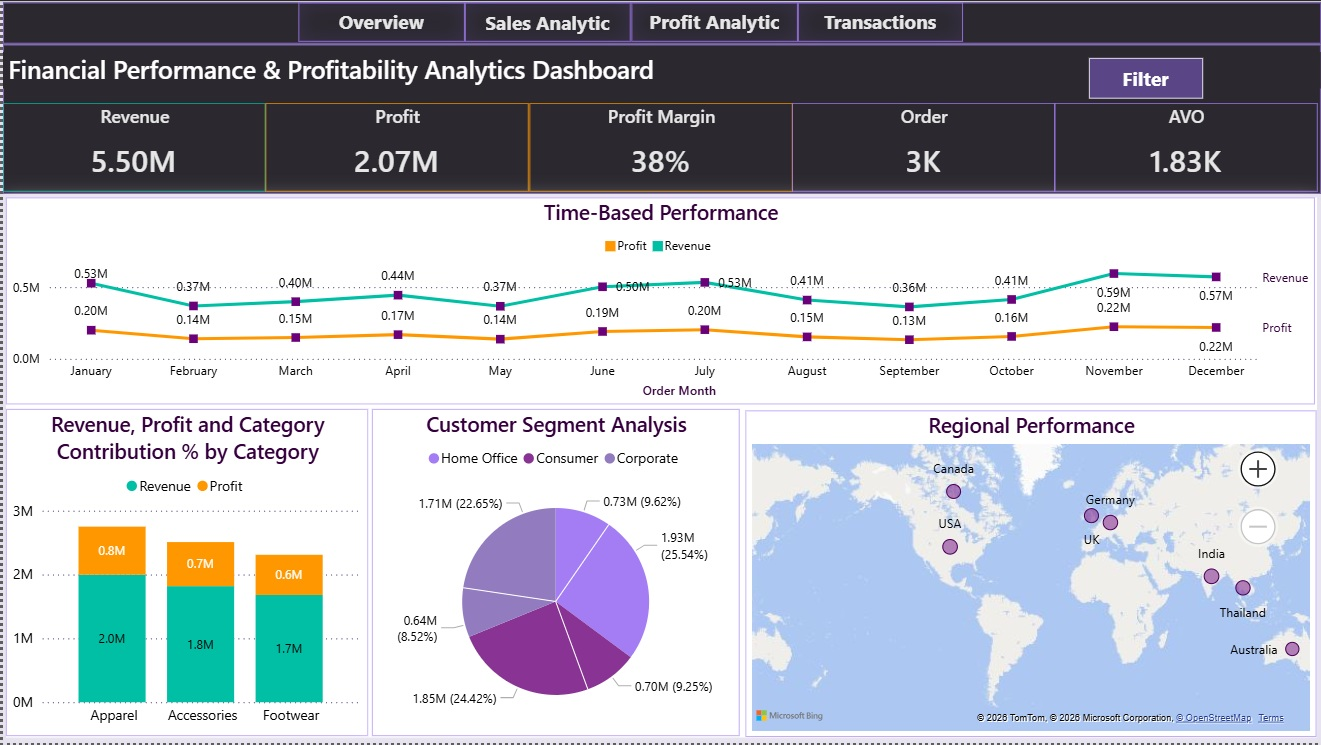

Layout of this report page (visuals, bound fields, positions):
{"tool":"powerbi","page":{"name":"Overview","canvas":[1280,720],"ordinal":0},"visuals":[{"type":"shape","box":[0,2.1,1279.1,40],"z":0,"group":"g5"},{"type":"actionButton","title":"Transactions","box":[771.9,2.2,160.1,37.8],"z":0,"group":"g2"},{"type":"group","id":"g1","title":"KPI","box":[0,42.6,1278.9,145],"z":0},{"type":"shape","box":[0,42.6,1278.9,145],"z":0,"group":"g1"},{"type":"cardVisual","title":"Revenue","fields":{"Data":["Footwear_Sales.Total Revenue"]},"box":[0,99.2,254.9,86.1],"z":0,"group":"g4"},{"type":"lineChart","title":"Time-Based Performance","fields":{"Y":["Footwear_Sales.Profit","Footwear_Sales.Total Revenue"],"Category":["Footwear_Sales.Order Month"]},"box":[3.4,190.8,1270,200.5],"z":0,"group":"g3"},{"type":"group","id":"g2","title":"Dashboard ","box":[287.2,2.2,644.8,38.4],"z":1000,"group":"g5"},{"type":"textbox","title":"Financial Performance & Profitability Analytics Dashboard","box":[0,50,1278.5,35.4],"z":1000,"group":"g1"},{"type":"cardVisual","title":"Profit","fields":{"Data":["Footwear_Sales.Profit"]},"box":[255.3,98.9,255,86.1],"z":1000,"group":"g4"},{"type":"group","id":"g3","title":"Charts","box":[3.4,190.8,1271,524],"z":1000},{"type":"map","title":"Regional Performance","fields":{"Category":["Footwear_Sales.Region / Country"],"Size":["Footwear_Sales.Total Revenue"]},"box":[720.7,398,553.7,316.8],"z":1000,"group":"g3"},{"type":"actionButton","title":"Profit_Analytic","box":[610.3,2.2,161.6,37.8],"z":2000,"group":"g2"},{"type":"group","id":"g4","title":"cards","box":[0,98.9,1275.5,87.2],"z":2000,"group":"g1"},{"type":"cardVisual","title":"Profit Margin","fields":{"Data":["Footwear_Sales.Profit Margin"]},"box":[510.3,98.9,255,86.1],"z":2000,"group":"g4"},{"type":"columnChart","fields":{"Category":["Footwear_Sales.Category"],"Y":["Footwear_Sales.Total Revenue","Footwear_Sales.Profit"]},"box":[3.4,396.4,351.3,317.5],"z":2000,"group":"g3"},{"type":"actionButton","title":"sales_Analytic","box":[448.3,2.2,160.7,38],"z":2500,"group":"g2"},{"type":"actionButton","title":"overview","box":[287.2,2.8,161.6,37.8],"z":3000,"group":"g2"},{"type":"actionButton","title":"Filter_On","box":[1053.4,54.6,110.8,39.5],"z":3000},{"type":"cardVisual","title":"Order","fields":{"Data":["Footwear_Sales.Order Count"]},"box":[765.3,98.9,255,86.1],"z":3000,"group":"g4"},{"type":"pieChart","title":"Customer Segment Analysis","fields":{"Category":["Footwear_Sales.Customer Segment"],"Y":["Footwear_Sales.Profit","Footwear_Sales.Total Revenue"]},"box":[358.4,396.4,356.5,317.5],"z":3000,"group":"g3"},{"type":"group","id":"g5","title":"Dashboard selection","box":[0,2.1,1279.1,40],"z":4000},{"type":"cardVisual","title":"AVO","fields":{"Data":["Footwear_Sales.AVO (average order value)"]},"box":[1020.3,98.9,255,86.1],"z":4000,"group":"g4"}]}

Visuals, with their boxes in screenshot pixels (x1, y1, x2, y2), scaled from the page's 1280x720 canvas onto the 1321x745 screenshot:
shape: (0, 2, 1320, 44)
"Transactions" actionButton: (797, 2, 962, 41)
"KPI" group: (0, 44, 1320, 194)
shape: (0, 44, 1320, 194)
"Revenue" cardVisual: (0, 103, 263, 192)
"Time-Based Performance" lineChart: (4, 197, 1314, 405)
"Dashboard " group: (296, 2, 962, 42)
"Financial Performance & Profitability Analytics Dashboard" textbox: (0, 52, 1319, 88)
"Profit" cardVisual: (263, 102, 527, 191)
"Charts" group: (4, 197, 1315, 740)
"Regional Performance" map: (744, 412, 1315, 740)
"Profit_Analytic" actionButton: (630, 2, 797, 41)
"cards" group: (0, 102, 1316, 193)
"Profit Margin" cardVisual: (527, 102, 790, 191)
columnChart - Footwear_Sales.Category x Footwear_Sales.Total Revenue: (4, 410, 366, 739)
"sales_Analytic" actionButton: (463, 2, 629, 42)
"overview" actionButton: (296, 3, 463, 42)
"Filter_On" actionButton: (1087, 56, 1201, 97)
"Order" cardVisual: (790, 102, 1053, 191)
"Customer Segment Analysis" pieChart: (370, 410, 738, 739)
"Dashboard selection" group: (0, 2, 1320, 44)
"AVO" cardVisual: (1053, 102, 1316, 191)
